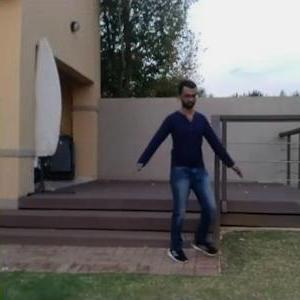land: (130, 93, 236, 267)
